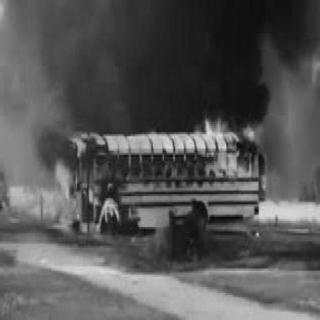Smoke: (10, 0, 312, 126)
